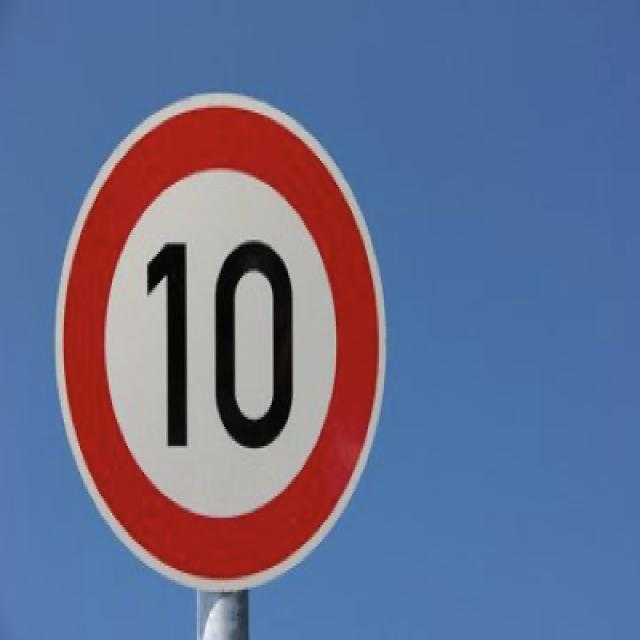speedlimit: (58, 89, 387, 585)
